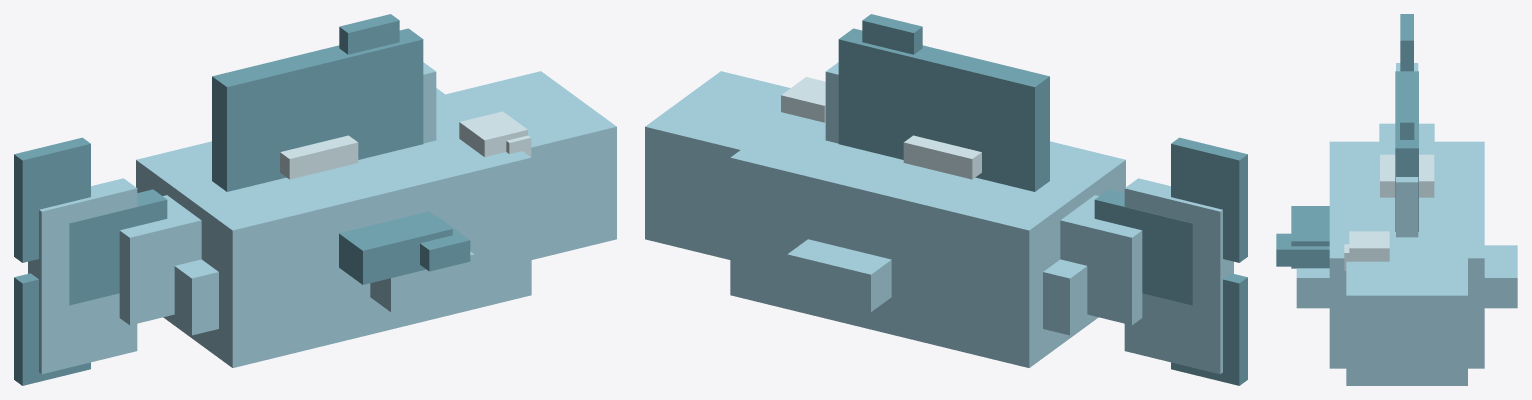
The model's file is fish_crystal_rime.glb.
3 views of the same model, side by side, from view 1: azimuth 30°, elevation 25°; view 2: azimuth 150°, elevation 25°; view 3: azimuth 270°, elevation 25° (orthographic). The views are drawn at different scales.
Visible parts, largest first — view 1: FishArt_body, FishArt_dorsal, FishArt_tail, FishArt_pectoral, FishArt_eye, FishArt_specialty; view 2: FishArt_body, FishArt_dorsal, FishArt_tail, FishArt_specialty, FishArt_eye; view 3: FishArt_body, FishArt_pectoral, FishArt_dorsal, FishArt_specialty, FishArt_eye, FishArt_tail.
Part boxes in pixels (x1,y1,x2,y2): FishArt_body: (28, 62, 616, 374); FishArt_dorsal: (212, 14, 423, 191); FishArt_tail: (14, 137, 167, 385); FishArt_pectoral: (339, 211, 470, 284); FishArt_eye: (459, 111, 531, 156); FishArt_specialty: (280, 135, 358, 179); FishArt_body: (645, 62, 1233, 374); FishArt_dorsal: (838, 14, 1049, 191); FishArt_tail: (1094, 137, 1247, 385); FishArt_specialty: (903, 135, 981, 179); FishArt_eye: (781, 77, 825, 122); FishArt_body: (1296, 63, 1517, 385); FishArt_pectoral: (1276, 206, 1329, 268); FishArt_dorsal: (1395, 71, 1418, 231); FishArt_specialty: (1380, 154, 1434, 197); FishArt_eye: (1344, 231, 1389, 270); FishArt_tail: (1400, 14, 1413, 71).
Bounding box in the file's own units: 0.3091 × 0.1442 × 0.1439.
